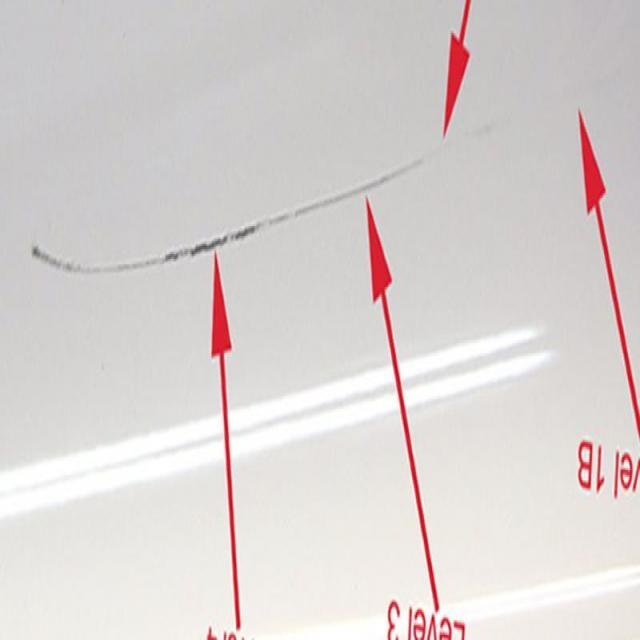scratch: (23, 137, 434, 280)
